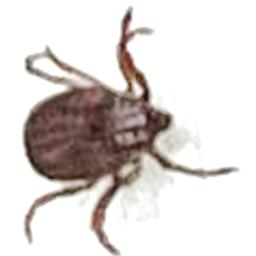Rhipicephalus sanguineus: (23, 5, 240, 255)
